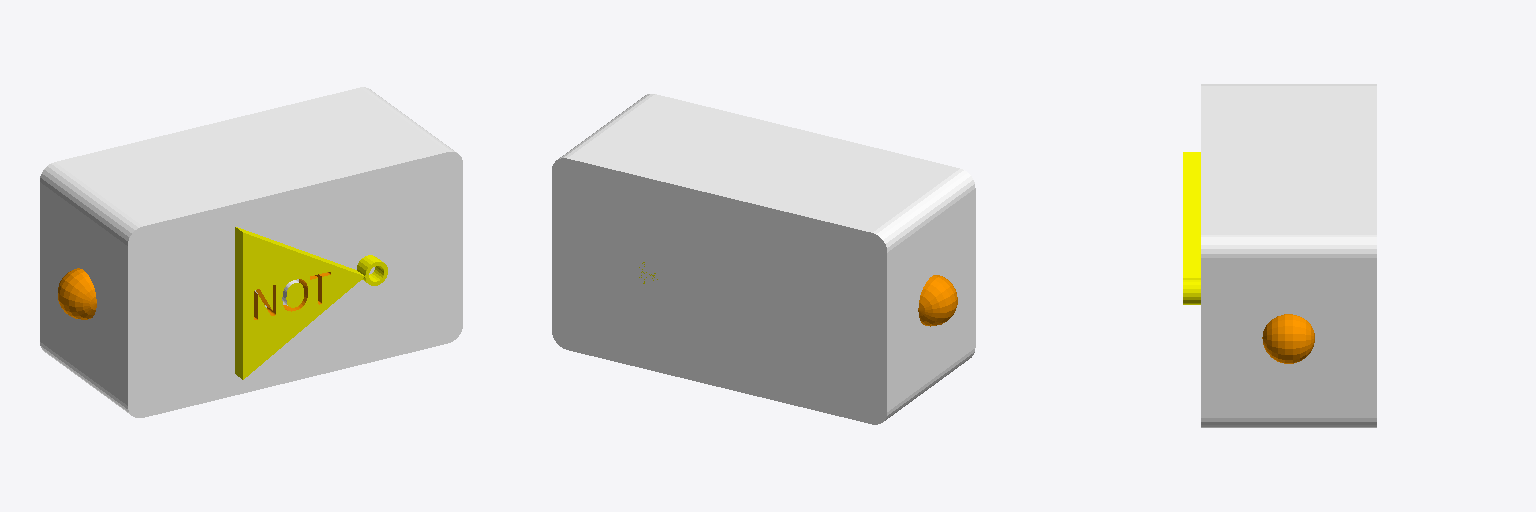
Rendered from ModNotGate.obj.
3 renders of one model, left to right at view 1: azimuth 30°, elevation 25°; view 2: azimuth 150°, elevation 25°; view 3: azimuth 270°, elevation 25°, orthographic.
Parts seen in each view (by area): view 1: ModNotGate; view 2: ModNotGate; view 3: ModNotGate.
Part boxes in pixels (bbox=[...]): ModNotGate: bbox=[40, 87, 462, 417]; ModNotGate: bbox=[552, 94, 975, 424]; ModNotGate: bbox=[1183, 84, 1376, 427].
Bounding box in the file's own units: 2.5 × 1.2 × 1.1.